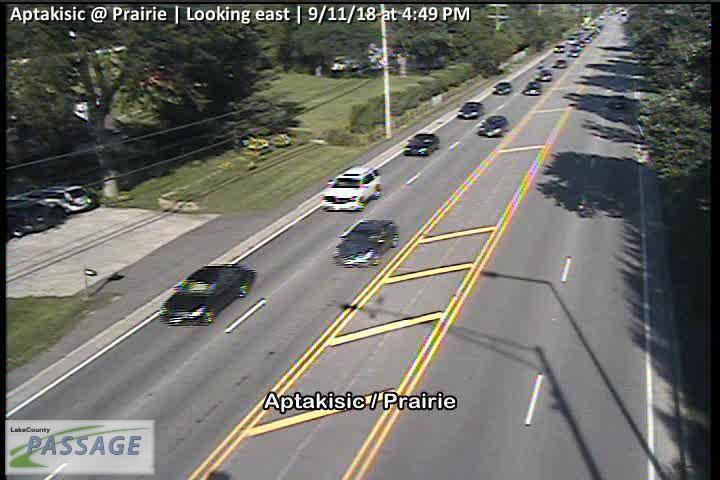SUV: (319, 165, 382, 211)
Sedan: (160, 262, 255, 325), (333, 218, 399, 267), (8, 184, 98, 214), (403, 131, 440, 155), (477, 114, 508, 136), (457, 100, 484, 118)
